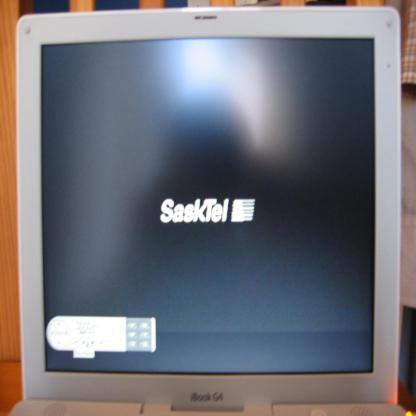board: (16, 2, 412, 416)
